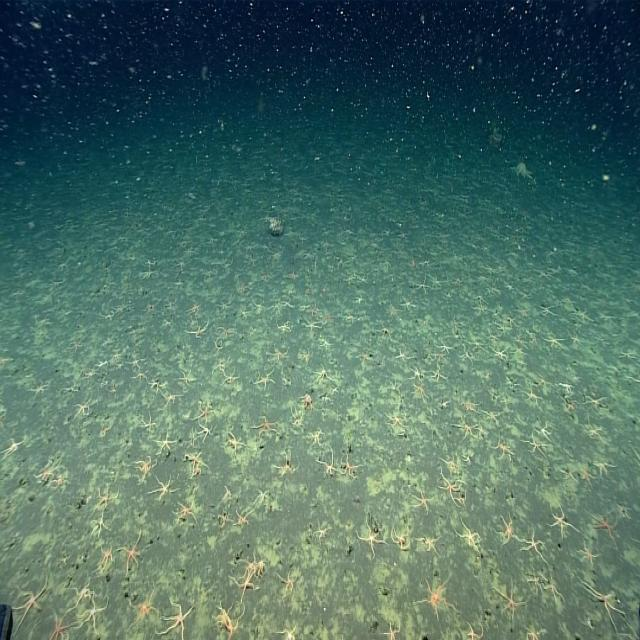brittle-stars: (1, 570, 47, 638), (408, 571, 460, 625), (119, 575, 162, 640), (152, 589, 205, 640), (226, 546, 269, 604), (486, 572, 530, 628), (201, 594, 251, 640), (575, 586, 625, 632), (114, 526, 151, 585), (446, 512, 487, 563), (73, 592, 113, 640), (355, 512, 390, 562), (489, 506, 526, 552), (432, 471, 469, 514), (270, 562, 308, 603), (584, 513, 622, 554), (271, 438, 302, 486), (512, 533, 552, 570), (544, 503, 583, 539), (87, 475, 120, 516), (249, 409, 281, 451), (45, 597, 76, 640), (399, 483, 436, 518), (306, 514, 335, 558), (0, 431, 27, 477), (218, 427, 250, 465), (84, 507, 114, 547), (244, 361, 277, 397), (149, 468, 179, 507), (94, 539, 118, 587), (172, 485, 200, 526), (386, 516, 412, 560), (128, 452, 158, 490), (337, 452, 365, 491), (410, 530, 446, 560), (23, 363, 47, 407), (308, 358, 338, 392), (517, 432, 547, 466), (33, 450, 57, 492), (68, 571, 92, 612), (182, 443, 206, 484), (182, 398, 219, 423), (53, 458, 72, 506), (138, 402, 162, 439), (543, 575, 568, 610), (573, 544, 604, 572), (269, 316, 296, 348), (29, 305, 57, 335), (71, 392, 93, 430), (580, 418, 612, 444), (285, 402, 308, 438), (270, 615, 303, 640), (315, 444, 336, 483), (380, 406, 408, 435), (459, 611, 487, 640), (520, 382, 546, 413), (154, 429, 178, 462), (580, 390, 608, 418), (227, 508, 256, 535), (494, 433, 519, 464), (438, 450, 464, 479), (610, 339, 640, 364), (186, 315, 213, 342), (611, 497, 637, 525), (592, 452, 620, 478), (213, 294, 237, 324), (260, 343, 292, 365), (306, 420, 328, 452), (445, 307, 467, 339), (524, 566, 544, 600), (155, 389, 187, 410), (453, 414, 476, 443), (476, 405, 505, 428), (534, 297, 559, 323), (190, 423, 219, 445), (138, 293, 160, 322), (559, 464, 583, 490), (534, 418, 560, 442), (539, 330, 566, 353), (297, 314, 325, 336), (156, 311, 179, 337), (177, 363, 198, 391), (264, 291, 285, 319), (411, 380, 432, 408), (204, 335, 230, 357), (379, 618, 405, 640), (407, 273, 431, 296), (210, 353, 235, 375), (122, 352, 149, 372), (568, 307, 596, 326), (467, 270, 489, 294), (95, 418, 113, 447), (182, 298, 205, 320), (428, 364, 451, 386), (212, 251, 235, 273), (216, 371, 240, 392), (251, 484, 271, 509), (455, 346, 480, 366), (468, 331, 488, 356), (92, 350, 111, 376), (294, 294, 316, 316), (491, 341, 513, 363), (316, 332, 339, 353), (346, 291, 369, 312), (299, 340, 314, 372), (374, 322, 398, 342), (554, 379, 576, 400), (170, 252, 191, 274), (380, 300, 404, 319), (136, 266, 160, 285), (279, 294, 297, 319), (431, 269, 448, 295), (130, 366, 152, 386), (394, 294, 416, 314), (460, 394, 480, 416), (515, 284, 535, 306), (235, 304, 255, 326), (295, 244, 315, 266), (219, 479, 238, 502), (214, 508, 232, 532), (395, 343, 412, 368), (341, 308, 361, 329), (492, 319, 511, 341), (236, 275, 255, 297), (373, 254, 395, 273), (580, 463, 596, 489), (246, 321, 264, 344), (66, 335, 86, 355), (98, 303, 114, 328), (218, 319, 238, 339), (468, 301, 488, 321), (408, 363, 429, 382), (356, 346, 374, 368), (302, 385, 316, 413), (252, 292, 269, 315), (258, 262, 273, 288), (452, 265, 464, 296), (162, 291, 178, 314), (47, 273, 63, 296), (534, 265, 553, 284), (384, 378, 404, 396), (568, 328, 586, 348), (436, 340, 458, 356), (200, 262, 217, 282), (526, 325, 539, 351), (516, 304, 532, 325), (108, 345, 124, 365), (485, 327, 501, 346), (148, 376, 164, 394), (168, 276, 186, 292), (201, 232, 217, 250), (344, 266, 357, 288), (522, 626, 542, 640), (357, 272, 376, 286), (286, 268, 301, 284), (81, 369, 95, 381)
